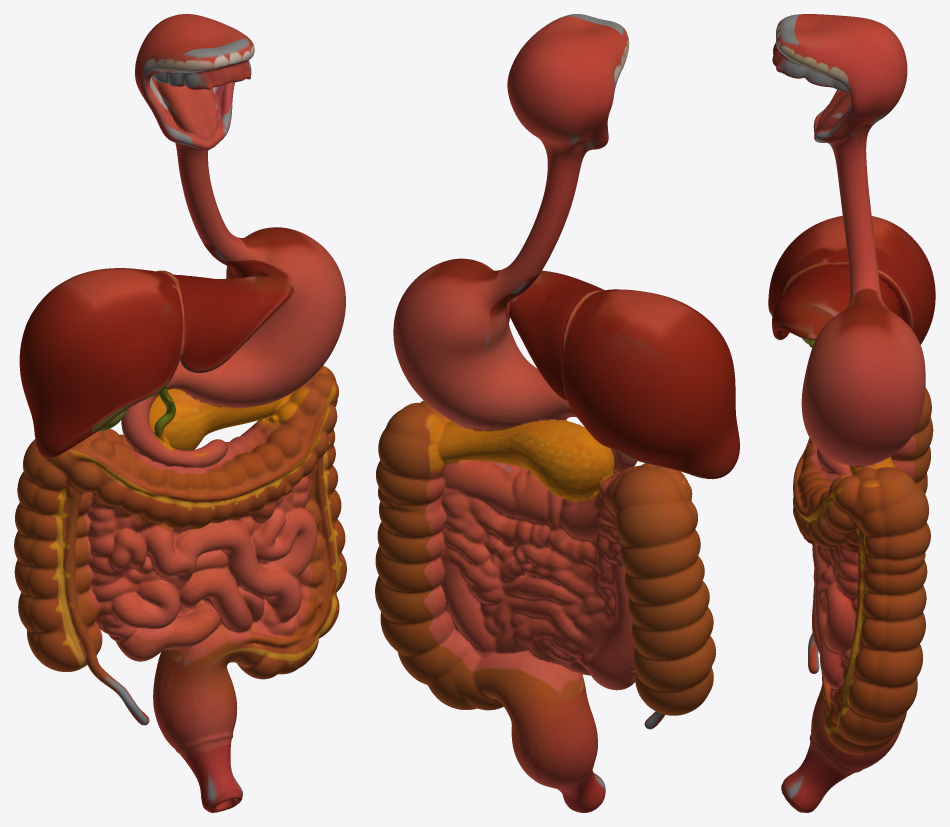
File: digestive system 3d model.glb
The picture shows the model from 3 angles, left to right: view 1: azimuth 30°, elevation 25°; view 2: azimuth 150°, elevation 25°; view 3: azimuth 270°, elevation 25°; orthographic projection. The views are drawn at different scales.
Parts seen in each view (by area): view 1: tripo_node_dd0ece07-76ff-4e28-ab35-acb523ca4c25; view 2: tripo_node_dd0ece07-76ff-4e28-ab35-acb523ca4c25; view 3: tripo_node_dd0ece07-76ff-4e28-ab35-acb523ca4c25.
Part boxes in pixels (box(x1,y1,x2,y2)): tripo_node_dd0ece07-76ff-4e28-ab35-acb523ca4c25: box(14, 14, 346, 812); tripo_node_dd0ece07-76ff-4e28-ab35-acb523ca4c25: box(375, 14, 739, 812); tripo_node_dd0ece07-76ff-4e28-ab35-acb523ca4c25: box(768, 14, 935, 812).
Size of the model in its own units: 0.4363 by 1 by 0.1933.
Materials: 1 (1 with a texture image).
